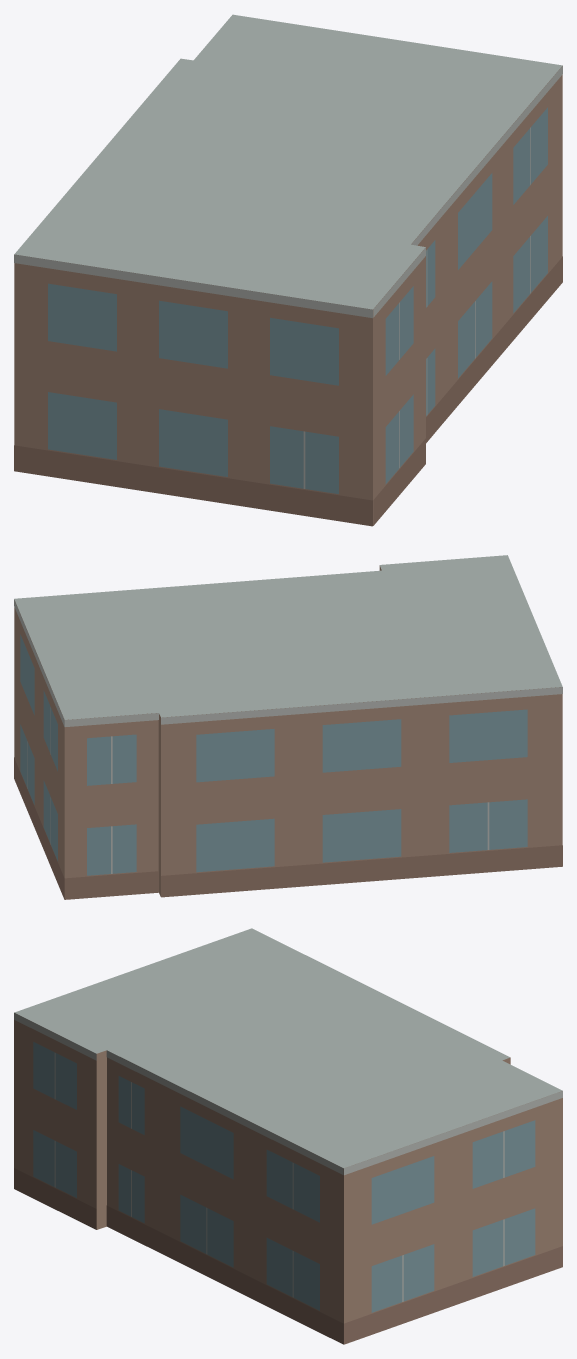
File: survey-upis-33042073.glb
3 views of the same model, one above another, from view 1: azimuth 30°, elevation 25°; view 2: azimuth 150°, elevation 25°; view 3: azimuth 270°, elevation 25° (orthographic). The views are drawn at different scales.
Parts seen in each view (by area): view 1: survey-upis-33042073.tmp; view 2: survey-upis-33042073.tmp; view 3: survey-upis-33042073.tmp.
Part boxes in pixels (box(x1,y1,x2,y2)): survey-upis-33042073.tmp: box(14, 14, 562, 526); survey-upis-33042073.tmp: box(14, 555, 562, 899); survey-upis-33042073.tmp: box(14, 928, 562, 1344).
Size of the model in its own units: 17.82 by 6.1 by 17.21.
